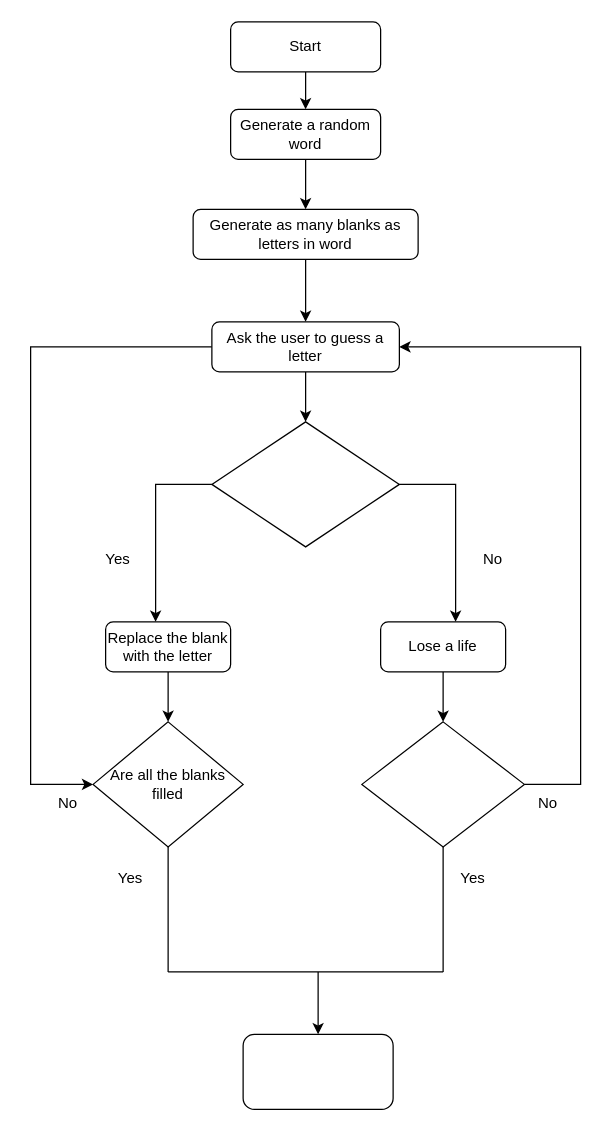
This 613x1131 diagram has some shape labels left out. Here are the shapes that lost their labels. From the top down, the centre of each, then its label:
At [305,484]: "Is the guessed leteter in the word?".
At [442,784]: "Have they run out of lives".
At [317,1071]: "Game over !".
